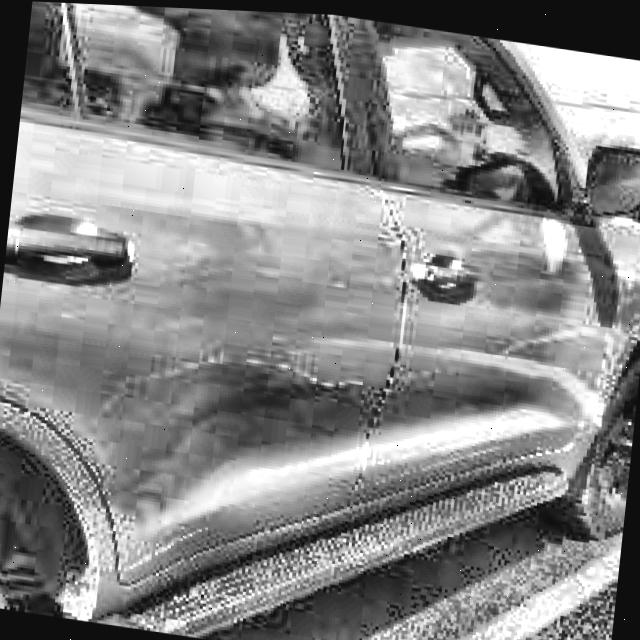door_scratch: (120, 324, 359, 410), (358, 337, 509, 418), (500, 310, 608, 368)
